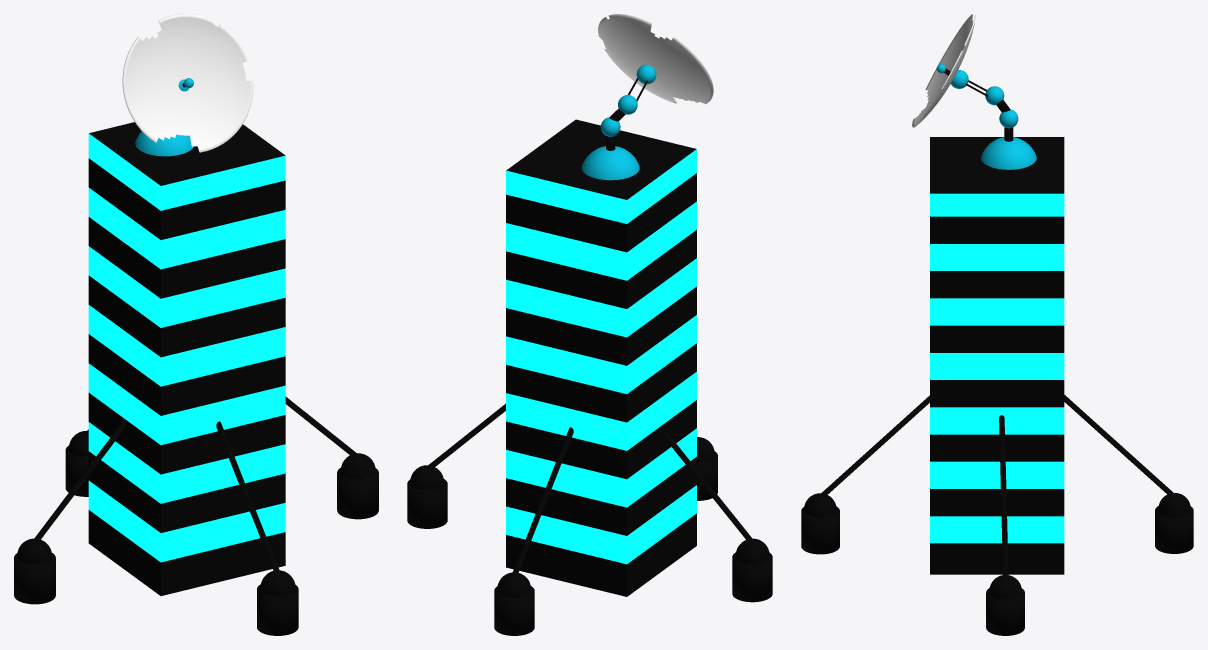
Rendered from LA tour   .fbx.
3 renders of one model, left to right at view 1: azimuth 30°, elevation 25°; view 2: azimuth 150°, elevation 25°; view 3: azimuth 270°, elevation 25°, orthographic. The views are drawn at different scales.
Visible parts, largest first — view 1: Cube, Parabole, Cylinder.006, Cylinder.005, Sphere; view 2: Cube, Cylinder.006, Parabole, Cylinder.005, Sphere; view 3: Cube, Cylinder.005, Cylinder.006, Parabole, Sphere.
Boxes of the visible parts, x1=… form: Cube: x1=88, y1=122, x2=285, y2=595; Parabole: x1=122, y1=14, x2=253, y2=152; Cylinder.006: x1=14, y1=396, x2=378, y2=604; Cylinder.005: x1=65, y1=421, x2=298, y2=635; Sphere: x1=135, y1=131, x2=193, y2=156; Cube: x1=506, y1=119, x2=696, y2=596; Cylinder.006: x1=407, y1=403, x2=772, y2=602; Parabole: x1=598, y1=14, x2=713, y2=103; Cylinder.005: x1=494, y1=427, x2=717, y2=635; Sphere: x1=581, y1=146, x2=639, y2=180; Cube: x1=930, y1=137, x2=1064, y2=574; Cylinder.005: x1=801, y1=395, x2=1193, y2=554; Cylinder.006: x1=986, y1=415, x2=1024, y2=635; Parabole: x1=912, y1=14, x2=975, y2=127; Sphere: x1=981, y1=137, x2=1036, y2=169.
Bounding box in the file's own units: 2917 × 4241 × 2919.
